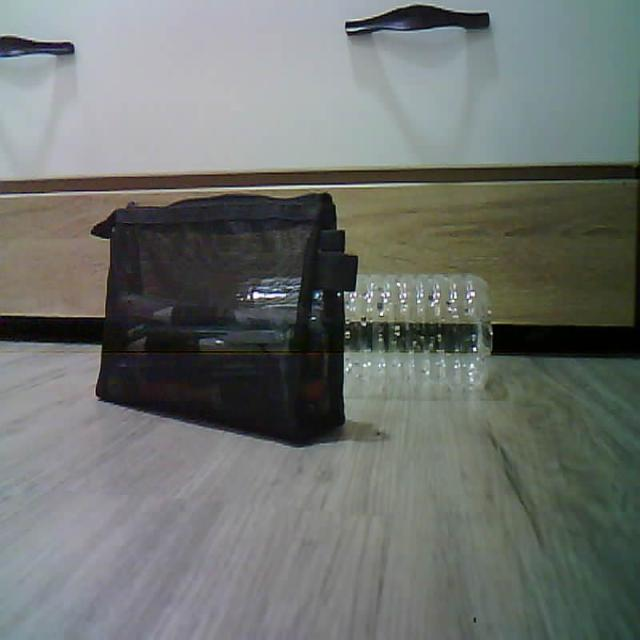bottle: (344, 272, 492, 393)
